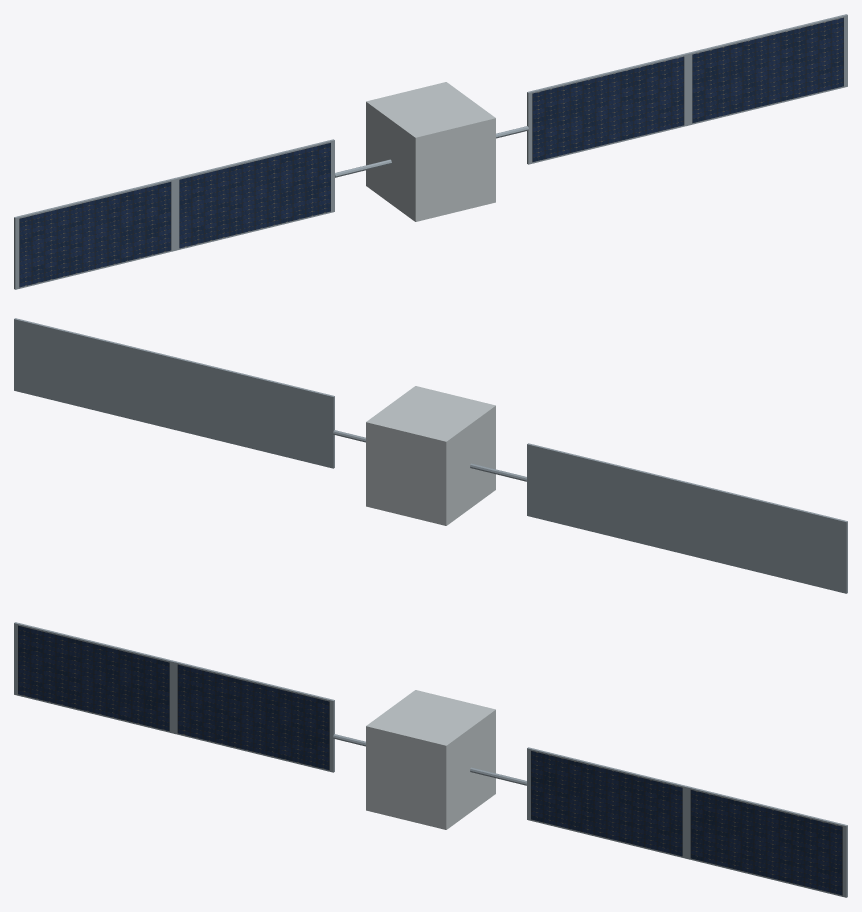
Rendered from ref-users-sm-27515.glb.
3 renders of one model, top to bottom at view 1: azimuth 30°, elevation 25°; view 2: azimuth 150°, elevation 25°; view 3: azimuth 330°, elevation 25°, orthographic.
Parts seen in each view (by area): view 1: Photovoltaic laminates (×4), Spacecraft body, Array frame (×4); view 2: Array frame (×4), Spacecraft body; view 3: Photovoltaic laminates (×4), Spacecraft body, Array frame (×4).
Part boxes in pixels (x1,y1,x2,y2): Photovoltaic laminates (×4): (19,17,843,287); Spacecraft body: (366,82,495,221); Array frame (×4): (14,14,847,289); Array frame (×4): (14,318,847,593); Spacecraft body: (366,386,495,525); Photovoltaic laminates (×4): (18,625,842,895); Spacecraft body: (366,690,495,829); Array frame (×4): (14,622,847,897).
Bounding box in the file's own units: 15.5 × 1.5 × 1.6.
3 materials, 1 textured.
